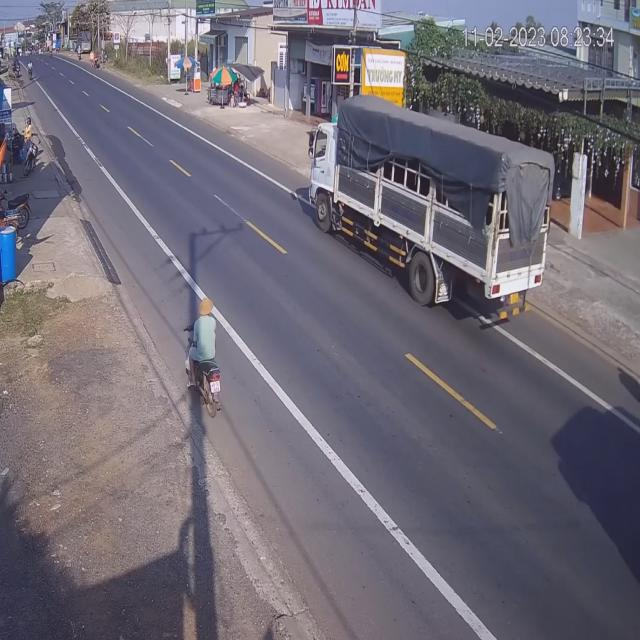motorbike: (186, 300, 226, 417)
truck: (309, 101, 549, 320)
